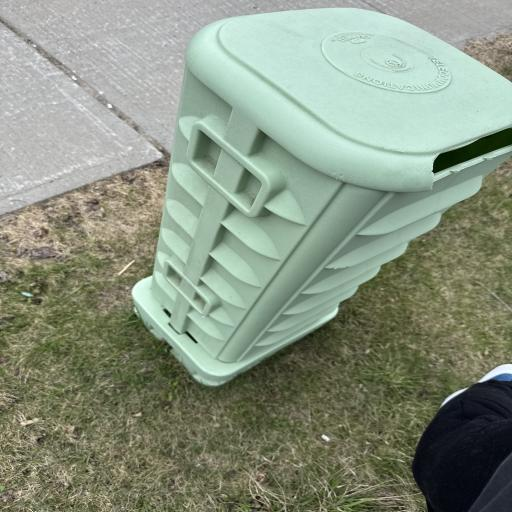Electrical Box: (132, 6, 512, 384)
